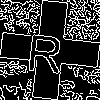R: (25, 25, 65, 74)
